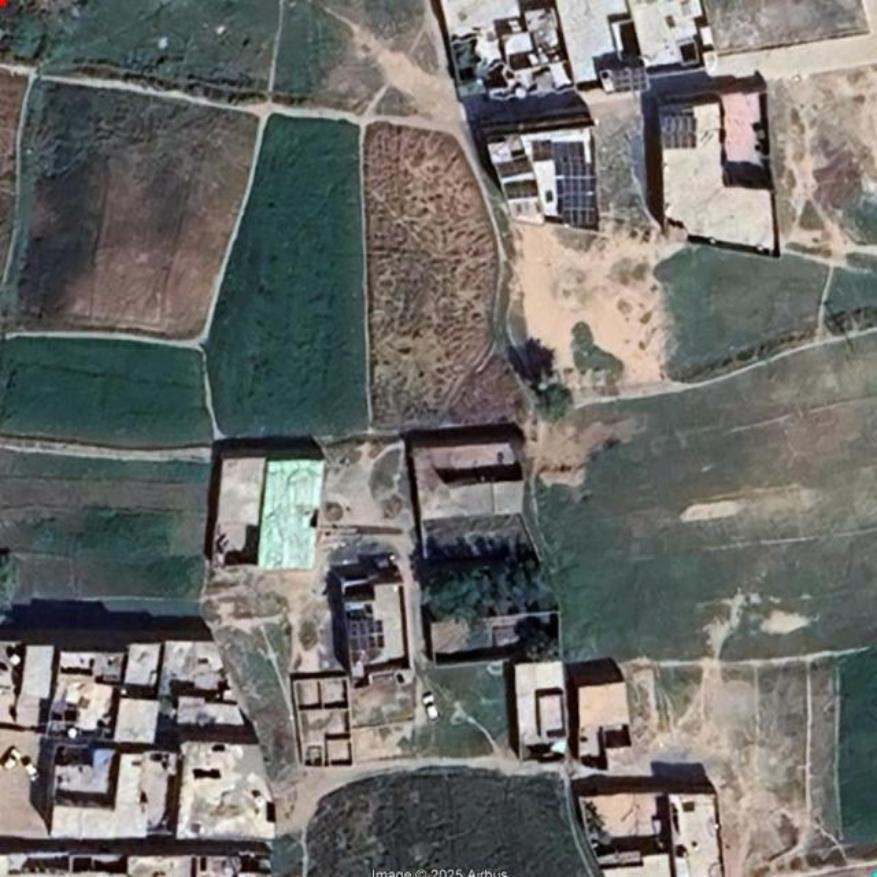Solarpanel: (557, 162, 595, 224), (352, 621, 386, 649), (615, 65, 646, 95), (666, 118, 696, 147)
